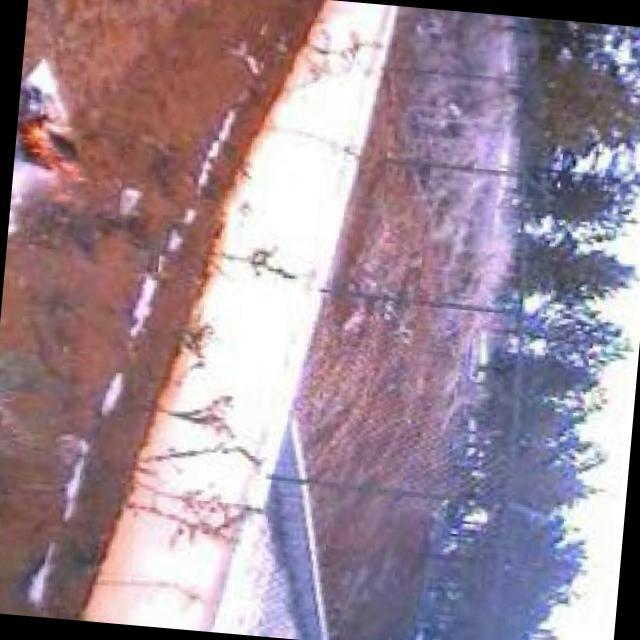Fire: (10, 88, 103, 213)
